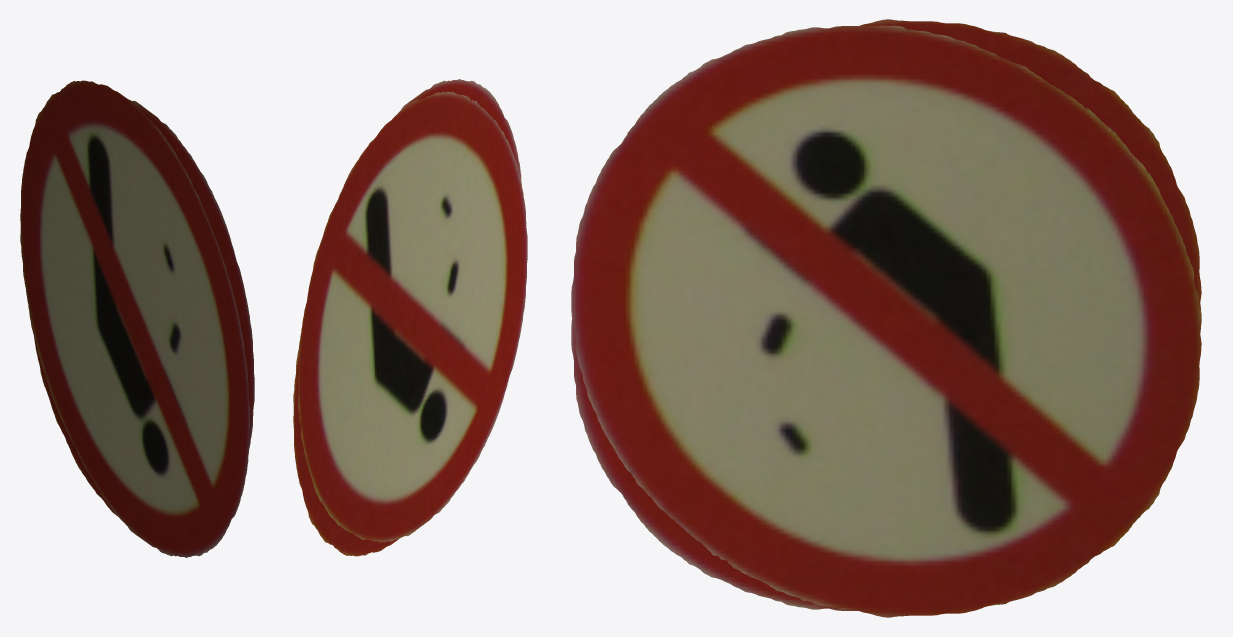
Rendered from DecalDontDrop.fbx.
3 views of the same model, side by side, from view 1: azimuth 30°, elevation 25°; view 2: azimuth 150°, elevation 25°; view 3: azimuth 270°, elevation 25° (orthographic). The views are drawn at different scales.
Parts seen in each view (by area): view 1: DecalDontDrop; view 2: DecalDontDrop; view 3: DecalDontDrop.
Boxes of the visible parts, x1,y1,x2,y2 form: DecalDontDrop: [20, 80, 254, 557]; DecalDontDrop: [293, 79, 527, 556]; DecalDontDrop: [571, 19, 1201, 617].
Bounding box in the file's own units: 5.01e-05 × 0.00435 × 0.00429.
